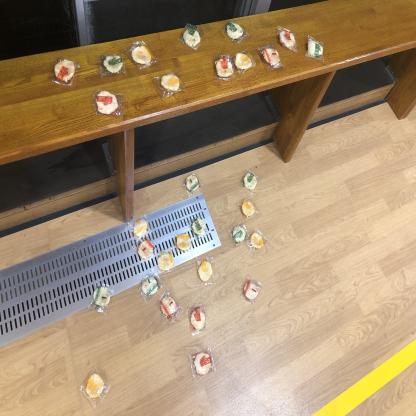green_setoshio: (89, 282, 113, 313), (99, 49, 126, 76), (180, 22, 204, 49), (182, 170, 204, 199), (140, 271, 161, 300), (223, 19, 246, 43), (305, 36, 327, 60), (241, 167, 260, 192), (191, 216, 210, 238), (229, 223, 248, 245)
red_setoshio: (92, 85, 124, 119), (190, 344, 216, 380), (52, 56, 78, 89), (239, 273, 263, 307), (189, 301, 212, 336), (213, 50, 235, 84), (160, 290, 181, 322), (260, 43, 284, 70), (278, 23, 299, 50), (136, 240, 155, 263)
yellow_setoshio: (81, 368, 110, 404), (156, 68, 186, 94), (129, 39, 154, 69), (195, 254, 218, 286), (246, 223, 268, 252), (236, 194, 260, 220), (128, 212, 150, 239), (234, 50, 258, 73), (155, 249, 177, 274), (174, 231, 196, 254)
